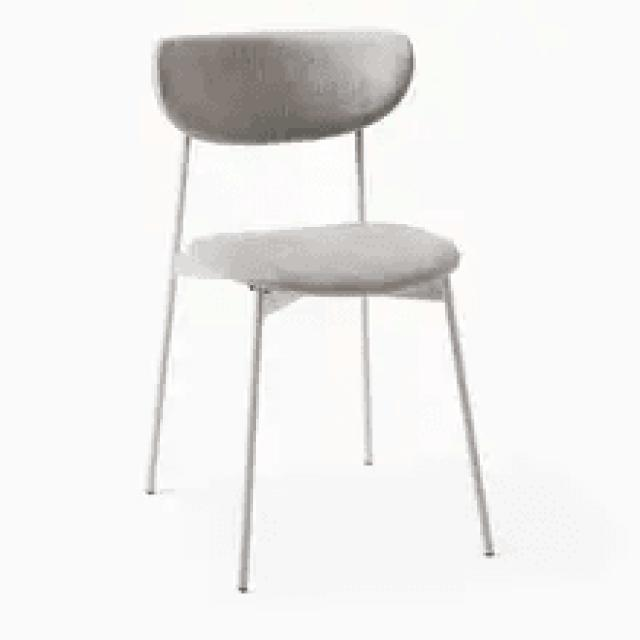chair: (138, 25, 502, 594), (144, 36, 478, 288)
